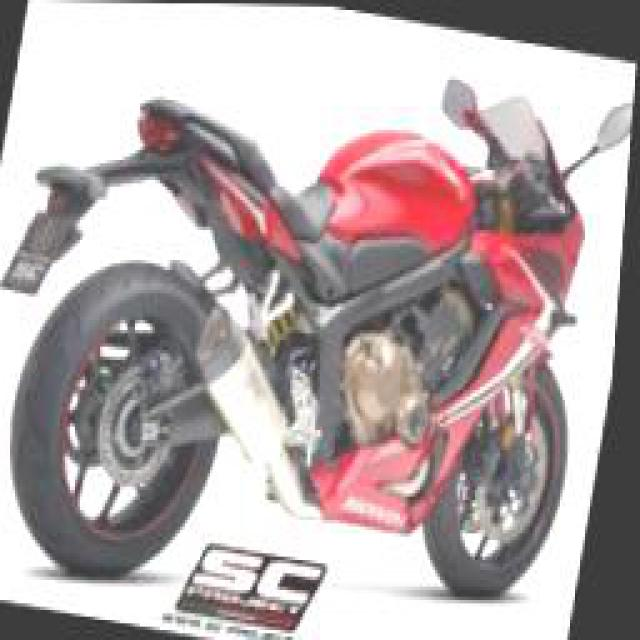CBR650R: (0, 6, 635, 636)
